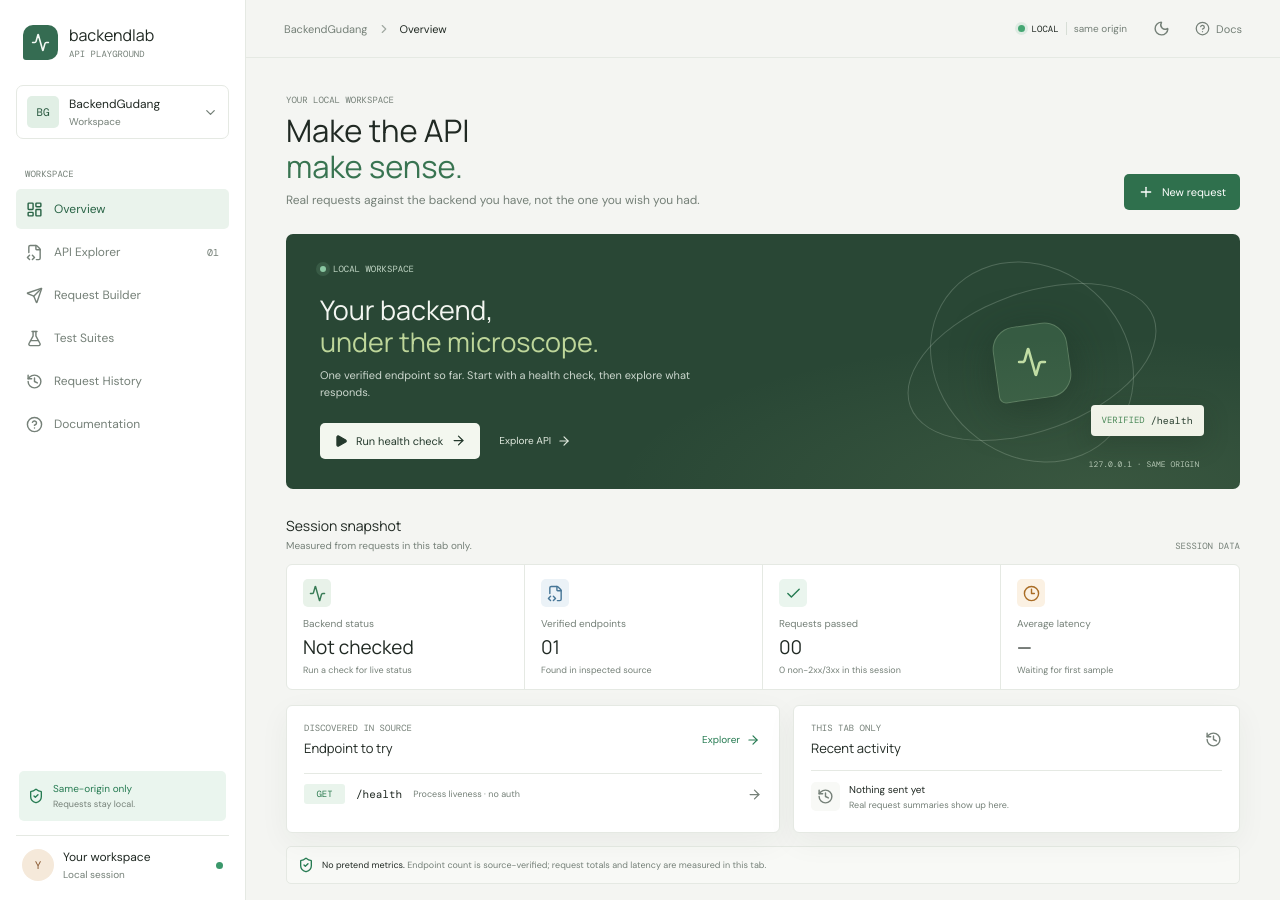
Test case: labels only the verified endpoint, passes an accessibility scan, and displays actual backend response
The image size is (1280, 900).
Expected: the text "Verified endpoints" is shown, [541,618,626,630]
Expected: the text "01" is shown 2 times, [207,246,219,258]; [541,634,560,660]
Click the button "Run health check" at (400, 441), box [320,423,480,459]
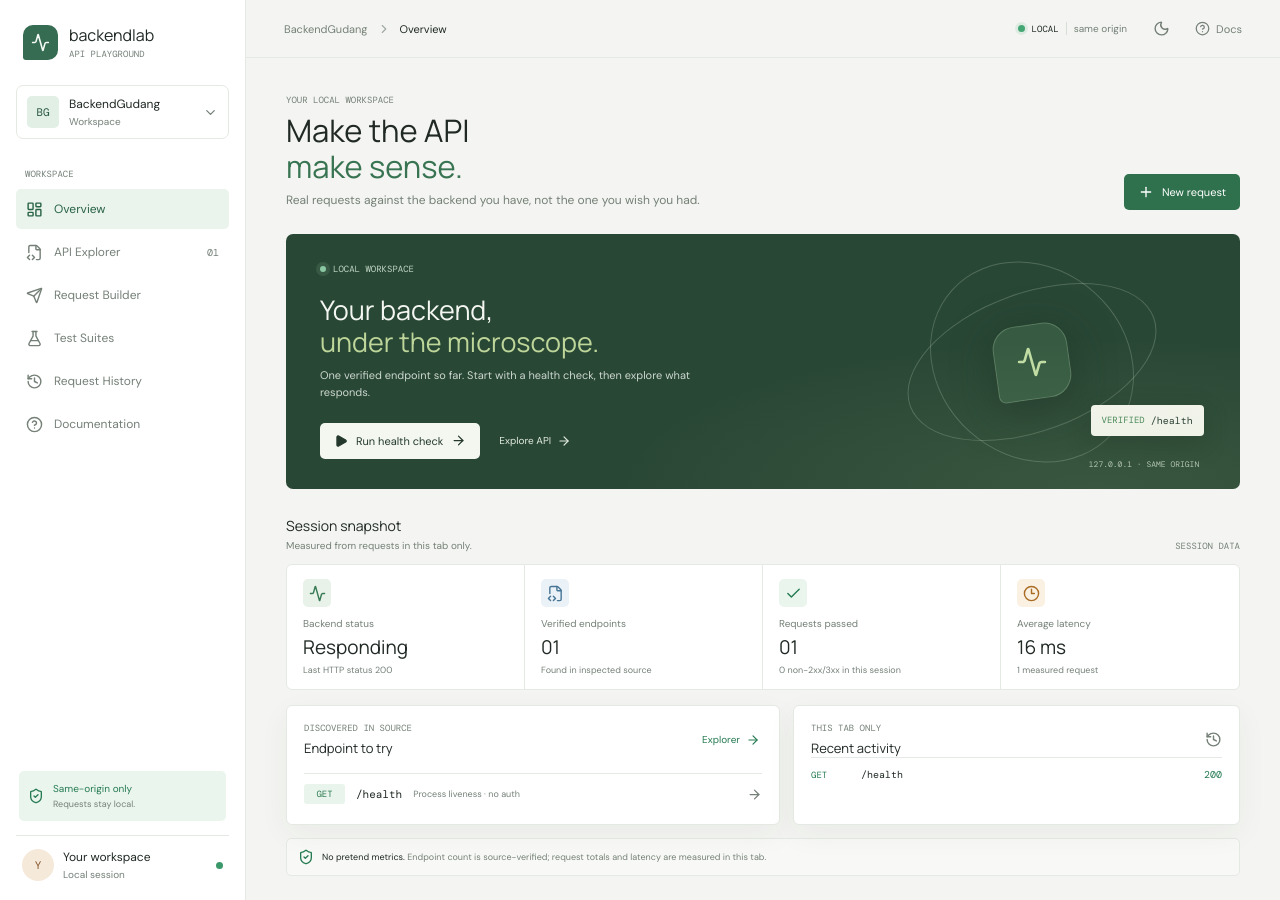
Expected: the text "Requests passed" is shown, [779,618,858,630]
Now the text "Last HTTP status 200" is shown, box [303,664,392,676]
